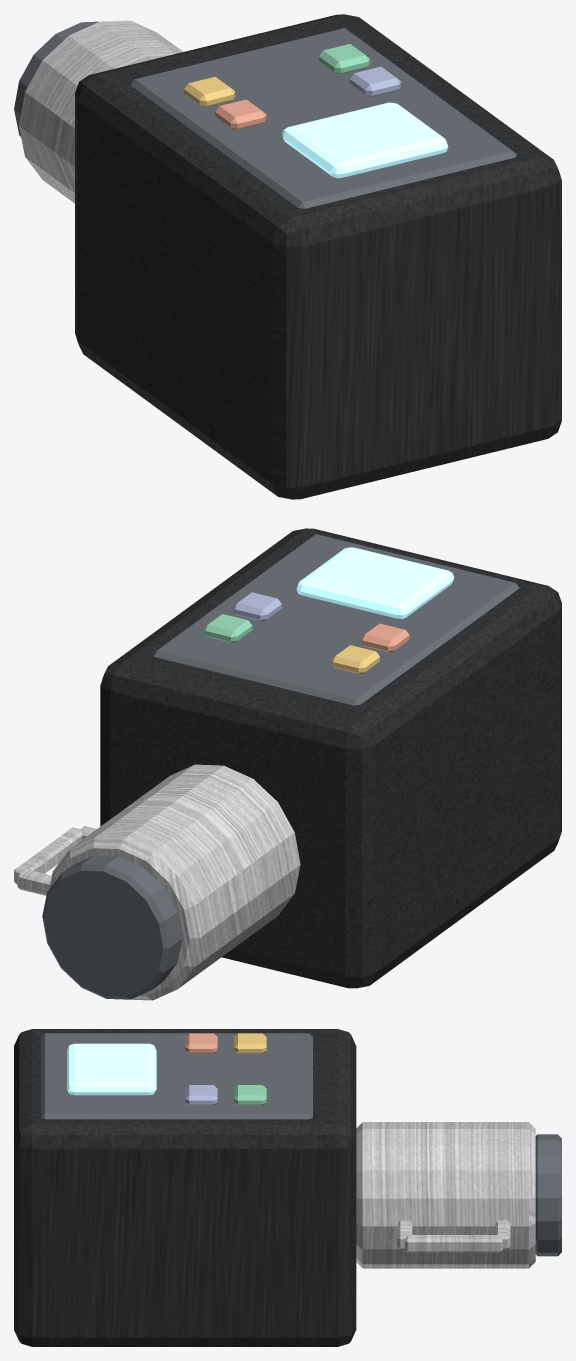
The model's file is 06_Cafetera_Oficina.fbx.
3 views of the same model, one above another, from view 1: azimuth 30°, elevation 25°; view 2: azimuth 150°, elevation 25°; view 3: azimuth 270°, elevation 25° (orthographic). The views are drawn at different scales.
Visible parts, largest first — view 1: 06_Cafetera_Oficina; view 2: 06_Cafetera_Oficina; view 3: 06_Cafetera_Oficina.
Boxes of the visible parts, x1,y1,x2,y2 form: 06_Cafetera_Oficina: (14,14,561,499); 06_Cafetera_Oficina: (14,528,561,1000); 06_Cafetera_Oficina: (14,1029,561,1346).
Size of the model in its own units: 0.32 by 0.319 by 0.6725.
